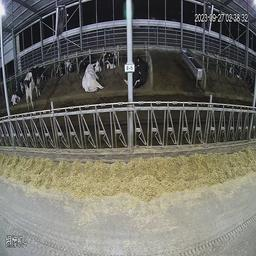cow: (23, 68, 47, 109), (126, 55, 149, 90), (82, 60, 103, 93), (9, 80, 23, 106), (103, 50, 118, 70), (59, 58, 73, 76)
